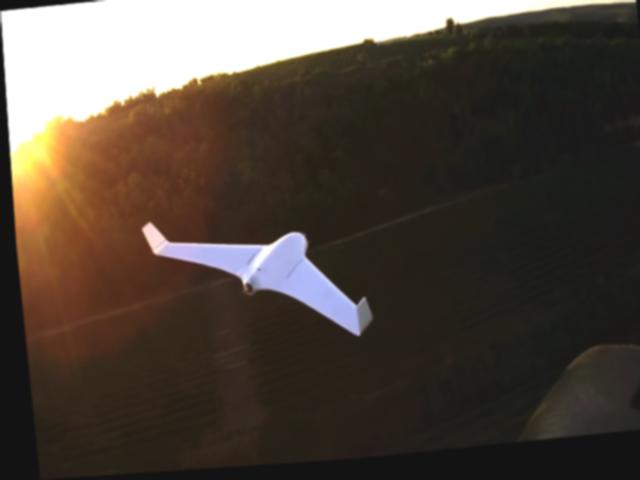plane: (136, 204, 371, 360)
